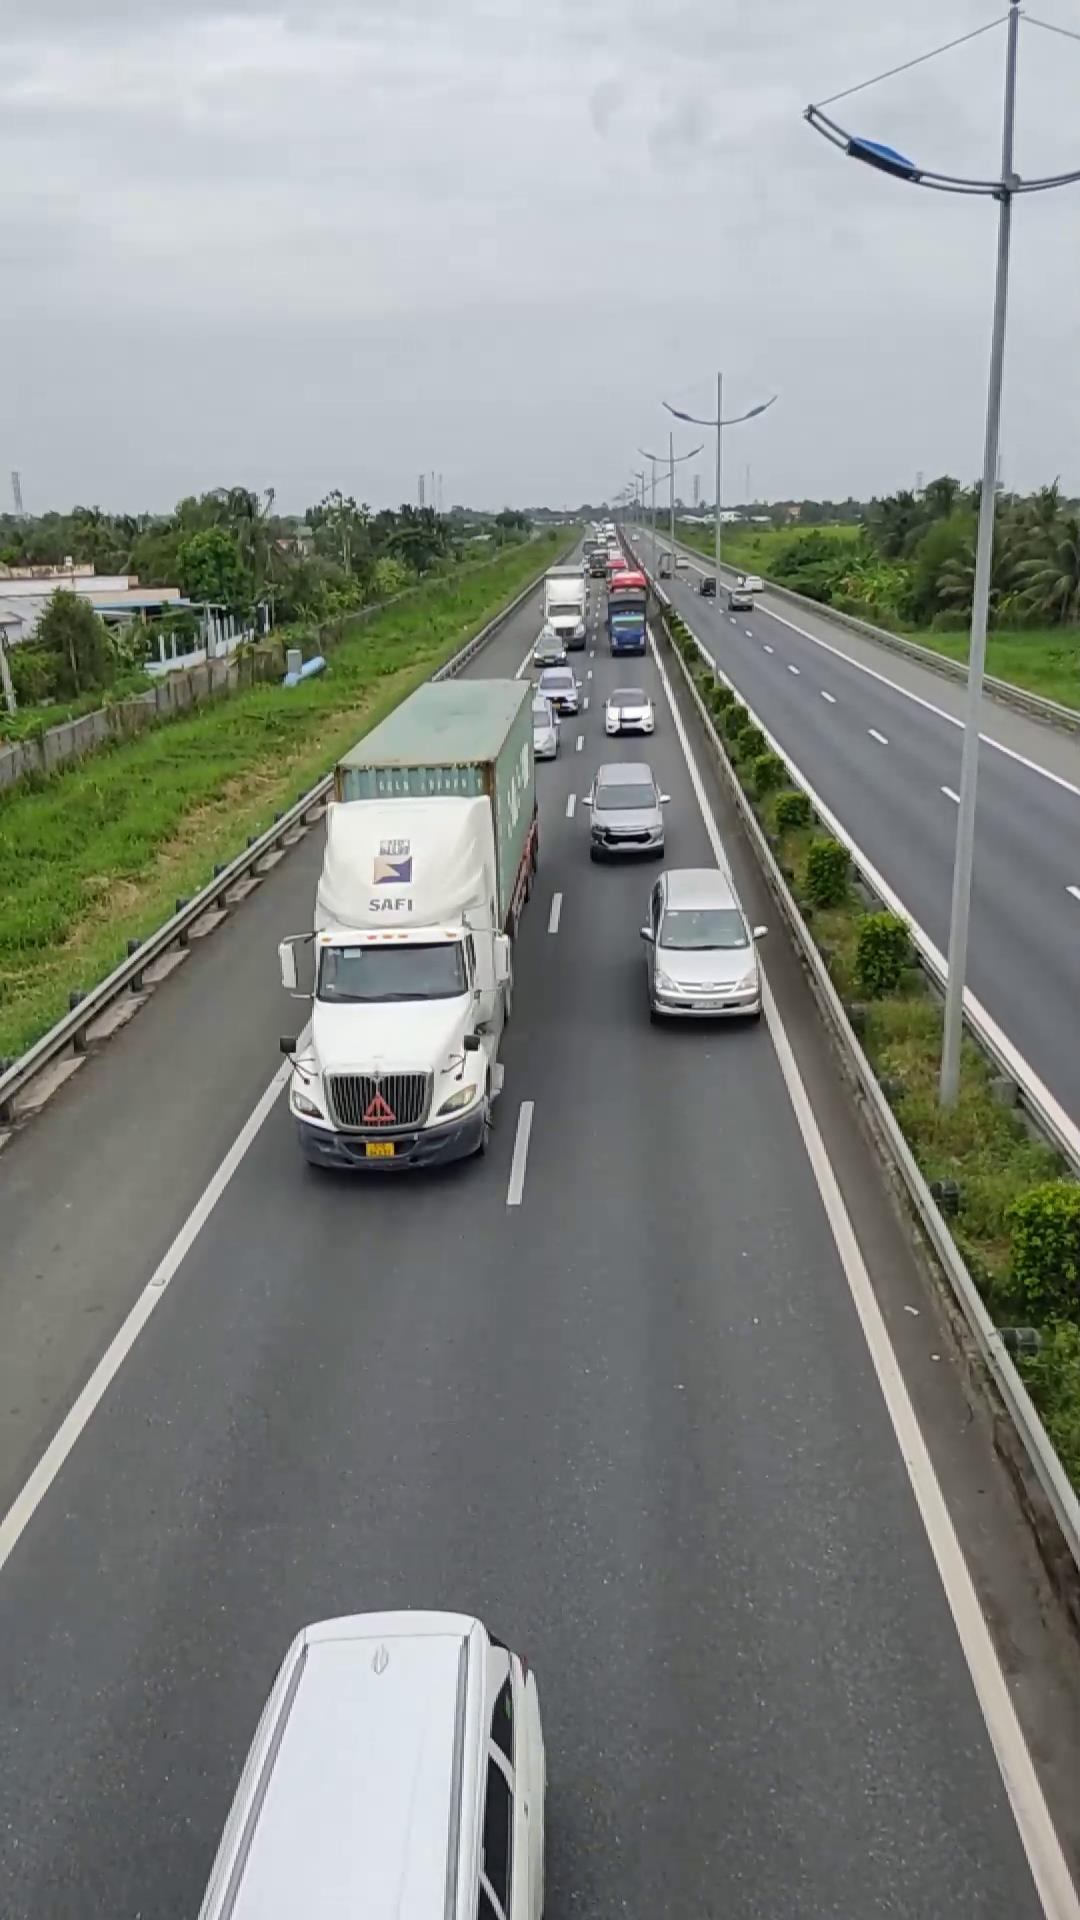car: (190, 1606, 550, 1919), (636, 865, 765, 1025), (582, 764, 669, 860)
container: (280, 673, 535, 1176)
